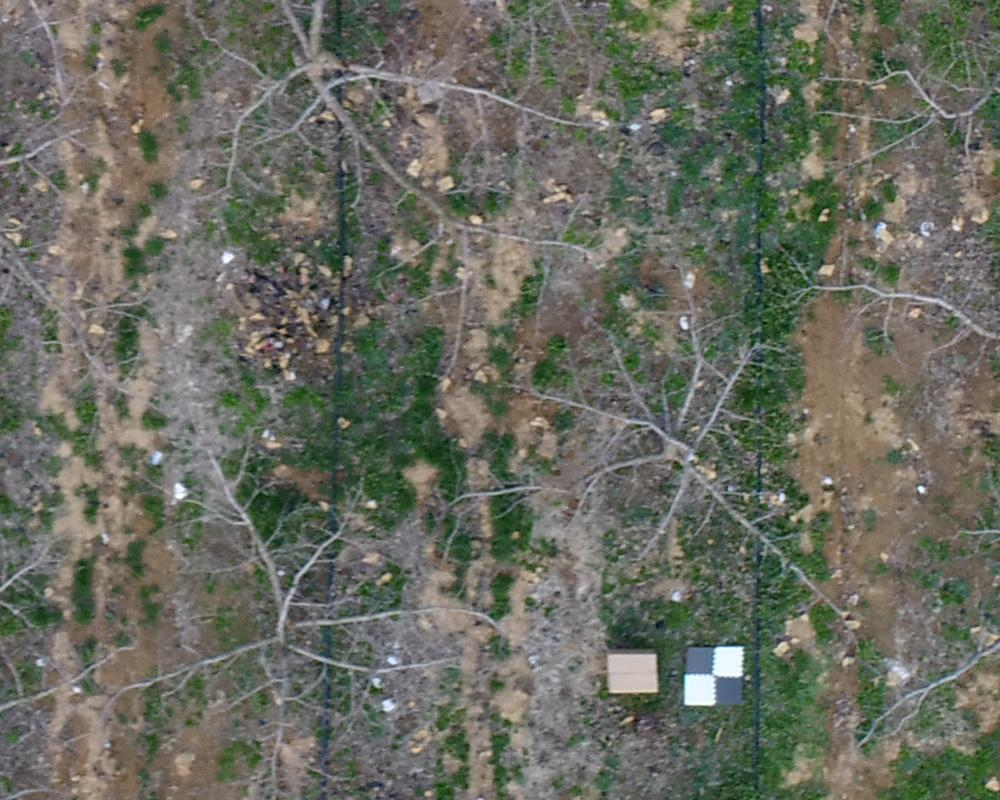apple: (455, 295, 893, 646), (96, 428, 514, 790), (167, 10, 626, 295), (832, 10, 990, 187)
